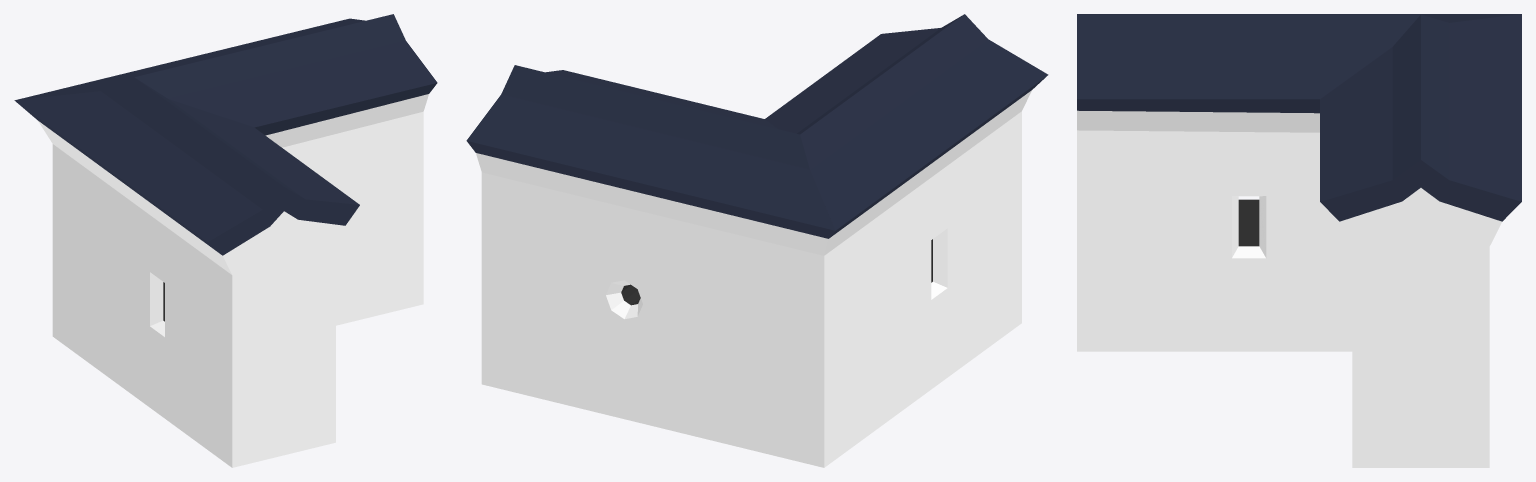
File: wall-japan-edge_small.glb
The picture shows the model from 3 angles, left to right: view 1: azimuth 30°, elevation 25°; view 2: azimuth 150°, elevation 25°; view 3: azimuth 270°, elevation 25°; orthographic projection. The views are drawn at different scales.
Visible parts, largest first — view 1: wall-japan-edge_small; view 2: wall-japan-edge_small; view 3: wall-japan-edge_small.
Part boxes in pixels (left/top/right/bottom): wall-japan-edge_small: left=14, top=14, right=437, bottom=467; wall-japan-edge_small: left=466, top=14, right=1048, bottom=467; wall-japan-edge_small: left=1077, top=14, right=1521, bottom=467.
Bounding box in the file's own units: 3.23 × 2.47 × 3.23.
Materials: 1 (1 with a texture image).
